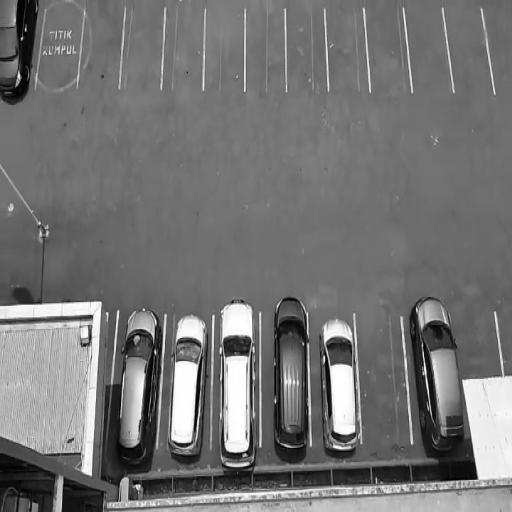Car: (410, 286, 465, 458), (217, 296, 259, 475), (166, 312, 212, 468), (116, 311, 160, 469), (270, 289, 311, 458), (317, 306, 360, 458)
Space Available: (363, 323, 405, 447), (249, 0, 285, 101), (208, 2, 244, 94), (329, 0, 363, 97), (289, 0, 324, 92), (127, 3, 160, 94), (168, 2, 202, 88), (371, 1, 401, 96), (44, 2, 79, 80), (87, 5, 119, 89), (412, 4, 441, 96), (454, 5, 482, 93), (461, 304, 497, 372), (495, 7, 512, 90), (500, 306, 512, 377)
